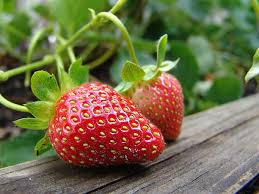ripe: (47, 77, 166, 168), (122, 66, 183, 146)
